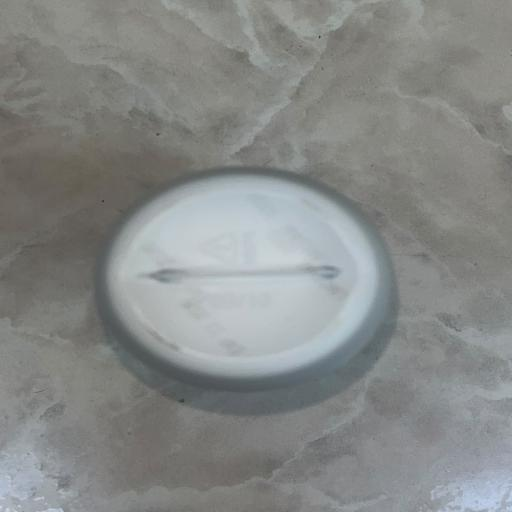HDPE: (64, 124, 461, 476)
